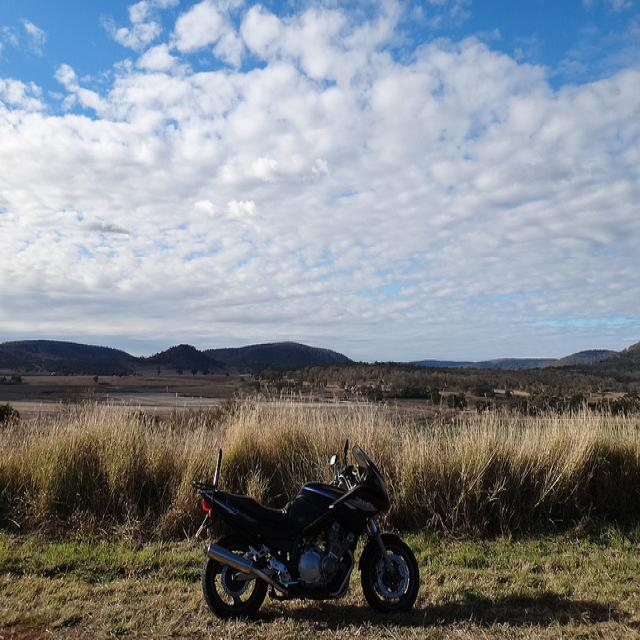motor: (198, 436, 423, 618)
